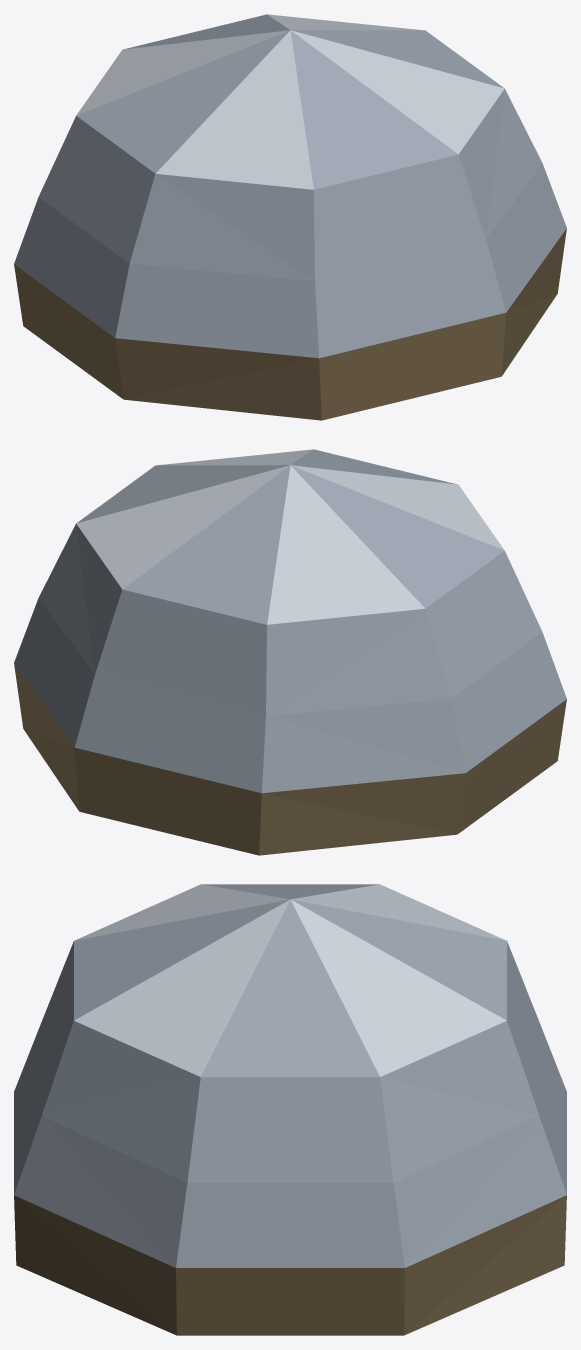
Rendered from Pauldron_Heavy.fbx.
3 renders of one model, top to bottom at view 1: azimuth 30°, elevation 25°; view 2: azimuth 150°, elevation 25°; view 3: azimuth 270°, elevation 25°, orthographic. The views are drawn at different scales.
Parts seen in each view (by area): view 1: 04_Pauldron_Heavy; view 2: 04_Pauldron_Heavy; view 3: 04_Pauldron_Heavy.
Part boxes in pixels (x1,y1,x2,y2): 04_Pauldron_Heavy: (14,14,566,420); 04_Pauldron_Heavy: (14,449,566,855); 04_Pauldron_Heavy: (14,884,566,1335).
Size of the model in its own units: 23.65 by 14 by 22.17.
